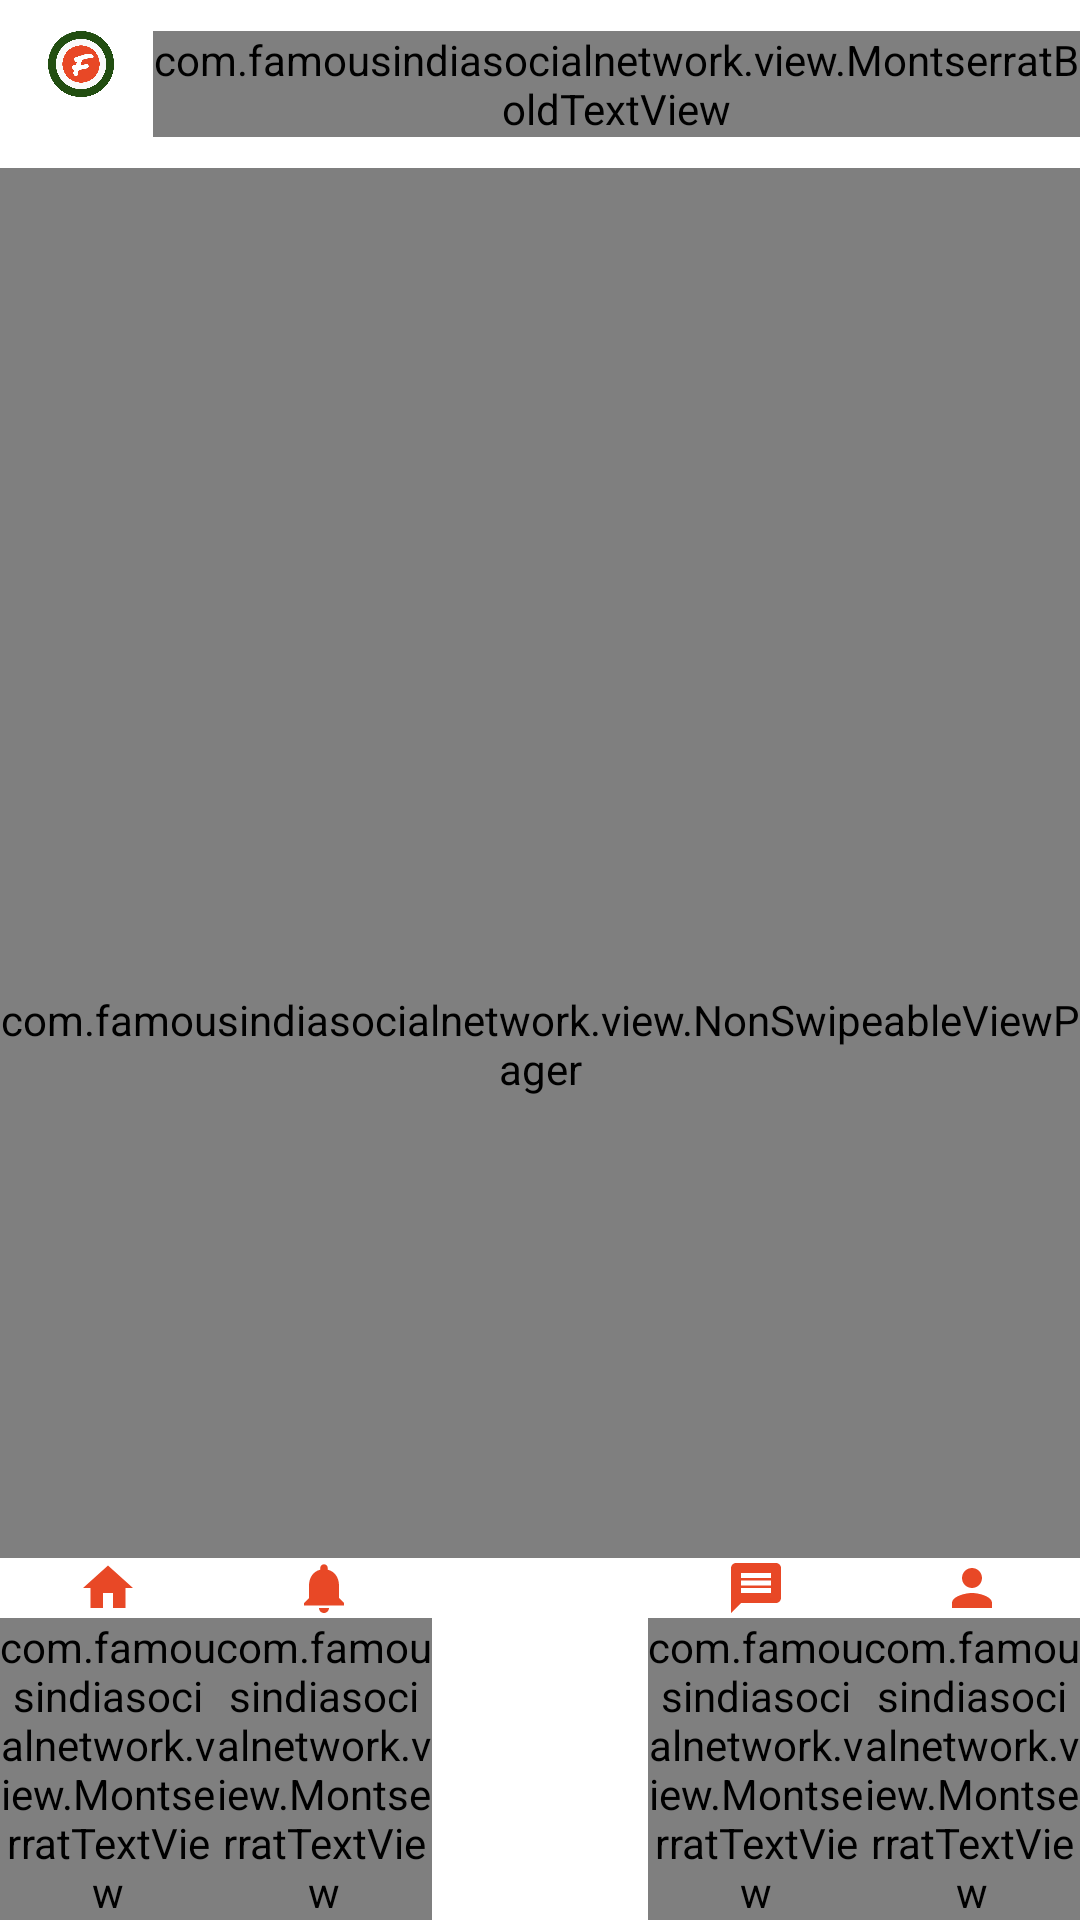

Icon click points for this 1080*1920 phone screenshot, format point (x, y):
home: point (108, 1586)
message: point (756, 1588)
notifications: point (324, 1588)
profile: point (972, 1588)
